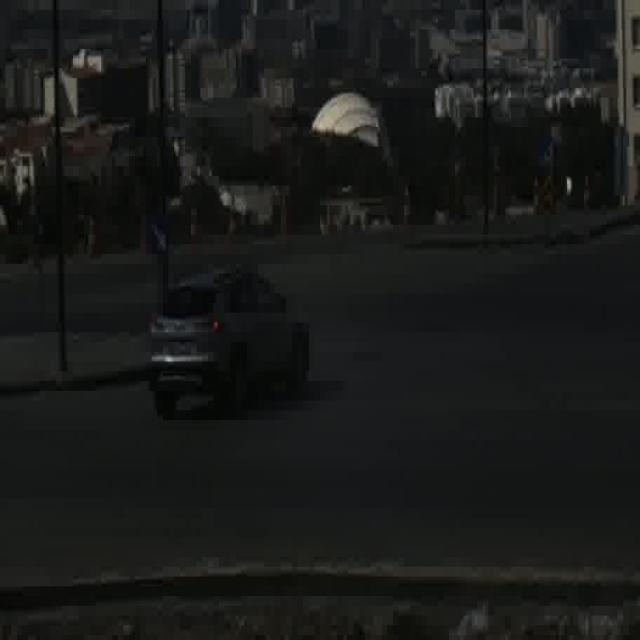Car: (151, 266, 310, 420)
